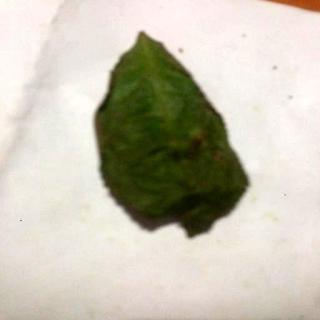Red Leaf Spot: (94, 35, 247, 237)
